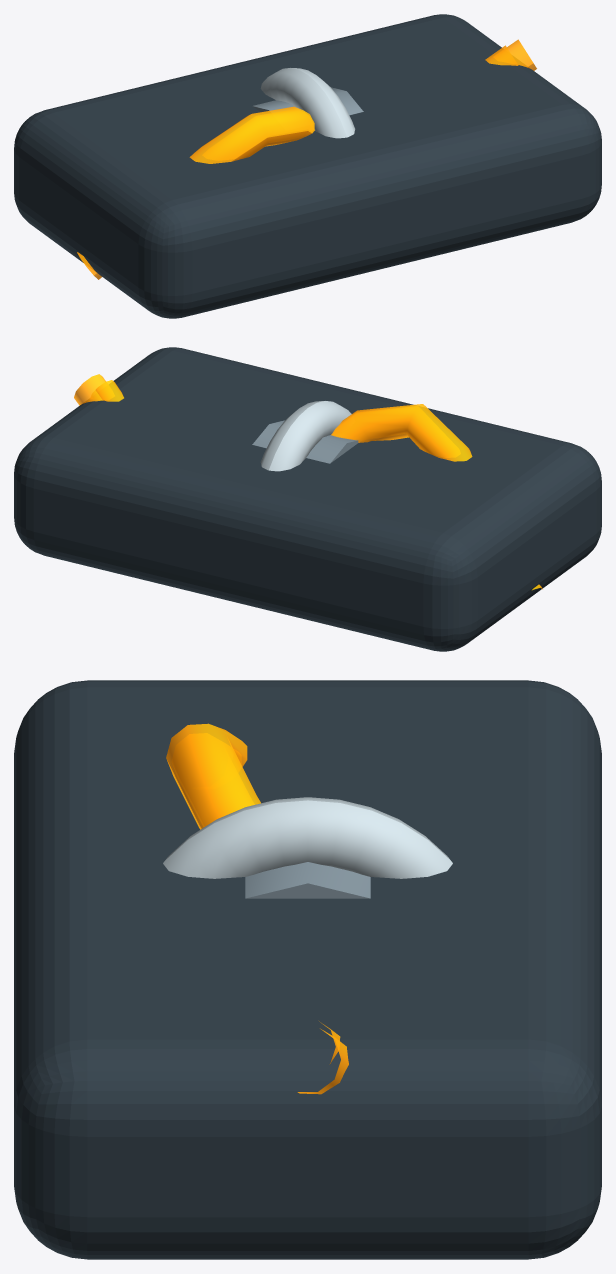
Rendered from body_25.glb.
The picture shows the model from 3 angles, top to bottom: view 1: azimuth 30°, elevation 25°; view 2: azimuth 150°, elevation 25°; view 3: azimuth 270°, elevation 25°; orthographic projection. The views are drawn at different scales.
Parts seen in each view (by area): view 1: asset_mesh__body_1187__reference_body, asset_mesh__body_1202__fluid_path, asset_mesh__body_1197__functional_ring, asset_mesh__body_1197__rotor; view 2: asset_mesh__body_1187__reference_body, asset_mesh__body_1202__fluid_path, asset_mesh__body_1197__functional_ring, asset_mesh__body_1197__rotor, asset_mesh__body_1219__fluid_path; view 3: asset_mesh__body_1187__reference_body, asset_mesh__body_1197__functional_ring, asset_mesh__body_1202__fluid_path, asset_mesh__body_1197__rotor.
Part boxes in pixels (x1=…): asset_mesh__body_1187__reference_body: x1=14, y1=14, x2=601, y2=318; asset_mesh__body_1202__fluid_path: x1=77, y1=39, x2=536, y2=279; asset_mesh__body_1197__functional_ring: x1=260, y1=68, x2=355, y2=138; asset_mesh__body_1197__rotor: x1=252, y1=87, x2=363, y2=115; asset_mesh__body_1187__reference_body: x1=14, y1=347, x2=601, y2=651; asset_mesh__body_1202__fluid_path: x1=74, y1=374, x2=542, y2=590; asset_mesh__body_1197__functional_ring: x1=260, y1=401, x2=351, y2=471; asset_mesh__body_1197__rotor: x1=252, y1=420, x2=358, y2=463; asset_mesh__body_1219__fluid_path: x1=95, y1=380, x2=421, y2=449; asset_mesh__body_1187__reference_body: x1=14, y1=680, x2=601, y2=1259; asset_mesh__body_1197__functional_ring: x1=163, y1=797, x2=452, y2=878; asset_mesh__body_1202__fluid_path: x1=166, y1=723, x2=348, y2=1094; asset_mesh__body_1197__rotor: x1=245, y1=862, x2=370, y2=898.
Bounding box in the file's own units: 1.47 × 0.5884 × 0.882.
